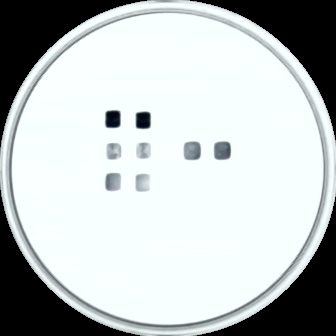检查点: (211, 139, 235, 163), (132, 171, 156, 195), (181, 140, 205, 162), (104, 172, 125, 192), (134, 109, 153, 130), (104, 142, 123, 162), (134, 142, 155, 159), (105, 109, 122, 129)
